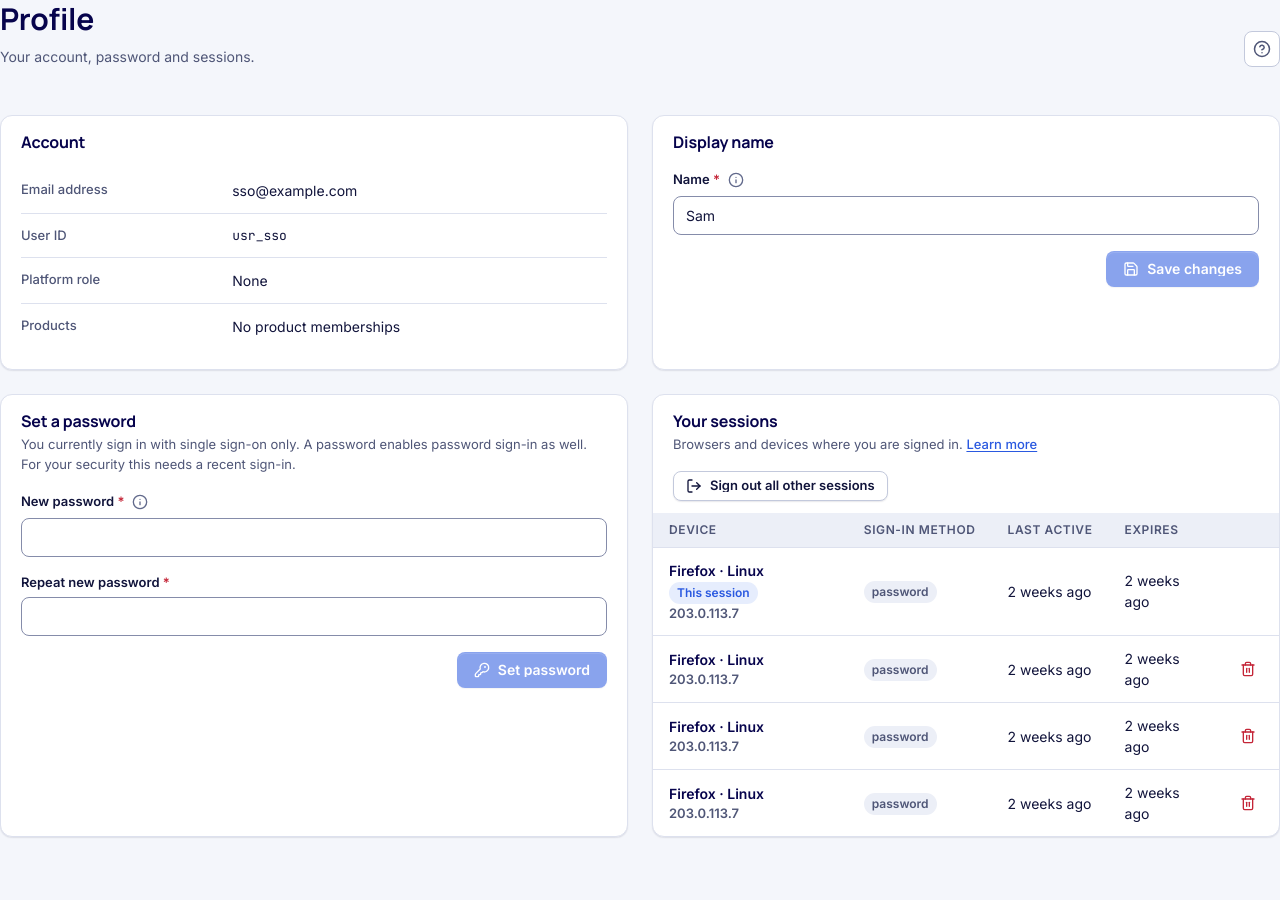
ProfilePage: sign out all other sessions › reports how many could not be signed out and keeps them listed
Click the button "Sign out all other sessions" at (780, 486), box [673,470,888,500]
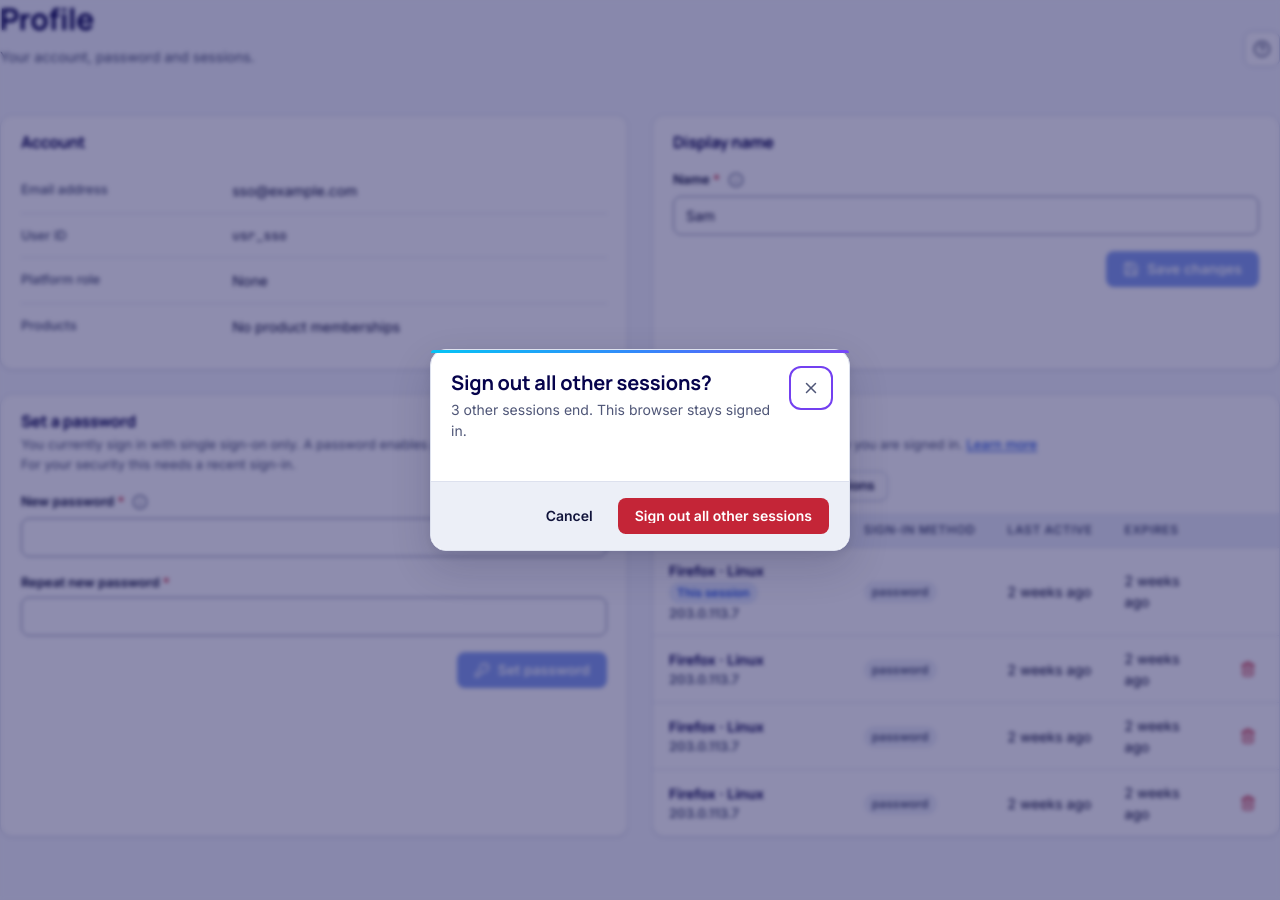
Expected: the dialog "Sign out all other sessions?" shows "3 other sessions end. This browser stays signed in.", [451,401,770,439]
Click the button "Sign out all other sessions" at (723, 516), box [618,498,829,534]
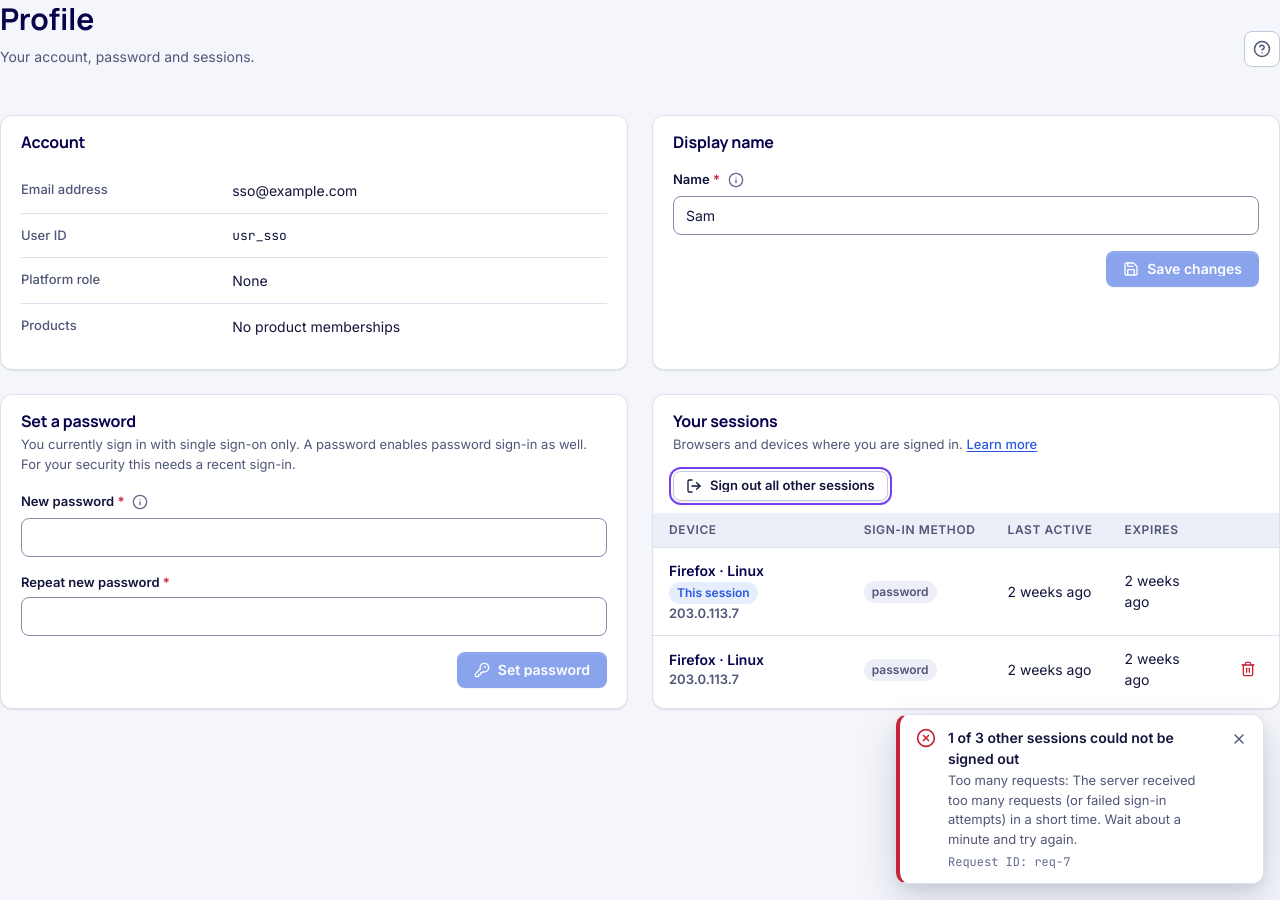
Expected: the button "Sign out all other sessions" is shown, [673,470,888,500]
Expected: the text "1 of 3 other sessions could not be signed out" is shown, [948,729,1174,767]
Expected: the text "Too many requests" is shown, [948,772,1196,846]
